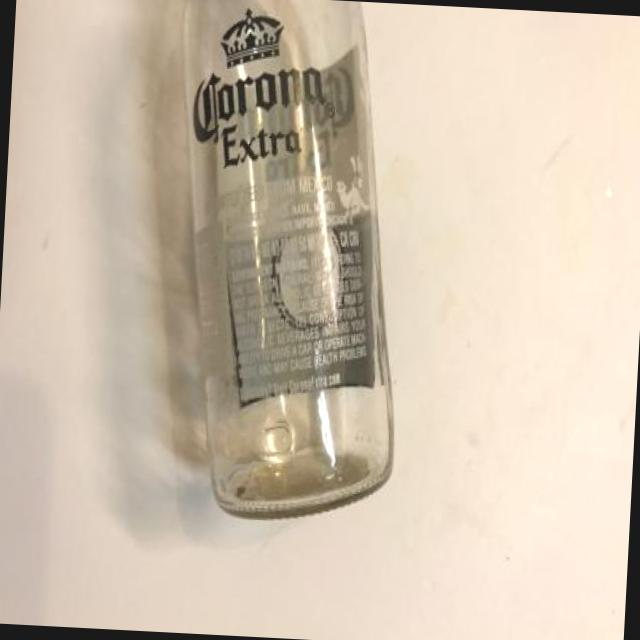chai_thuy_tinh: (183, 0, 393, 520)
